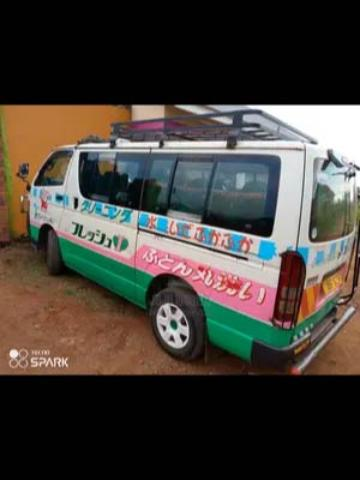van: (18, 110, 354, 368)
